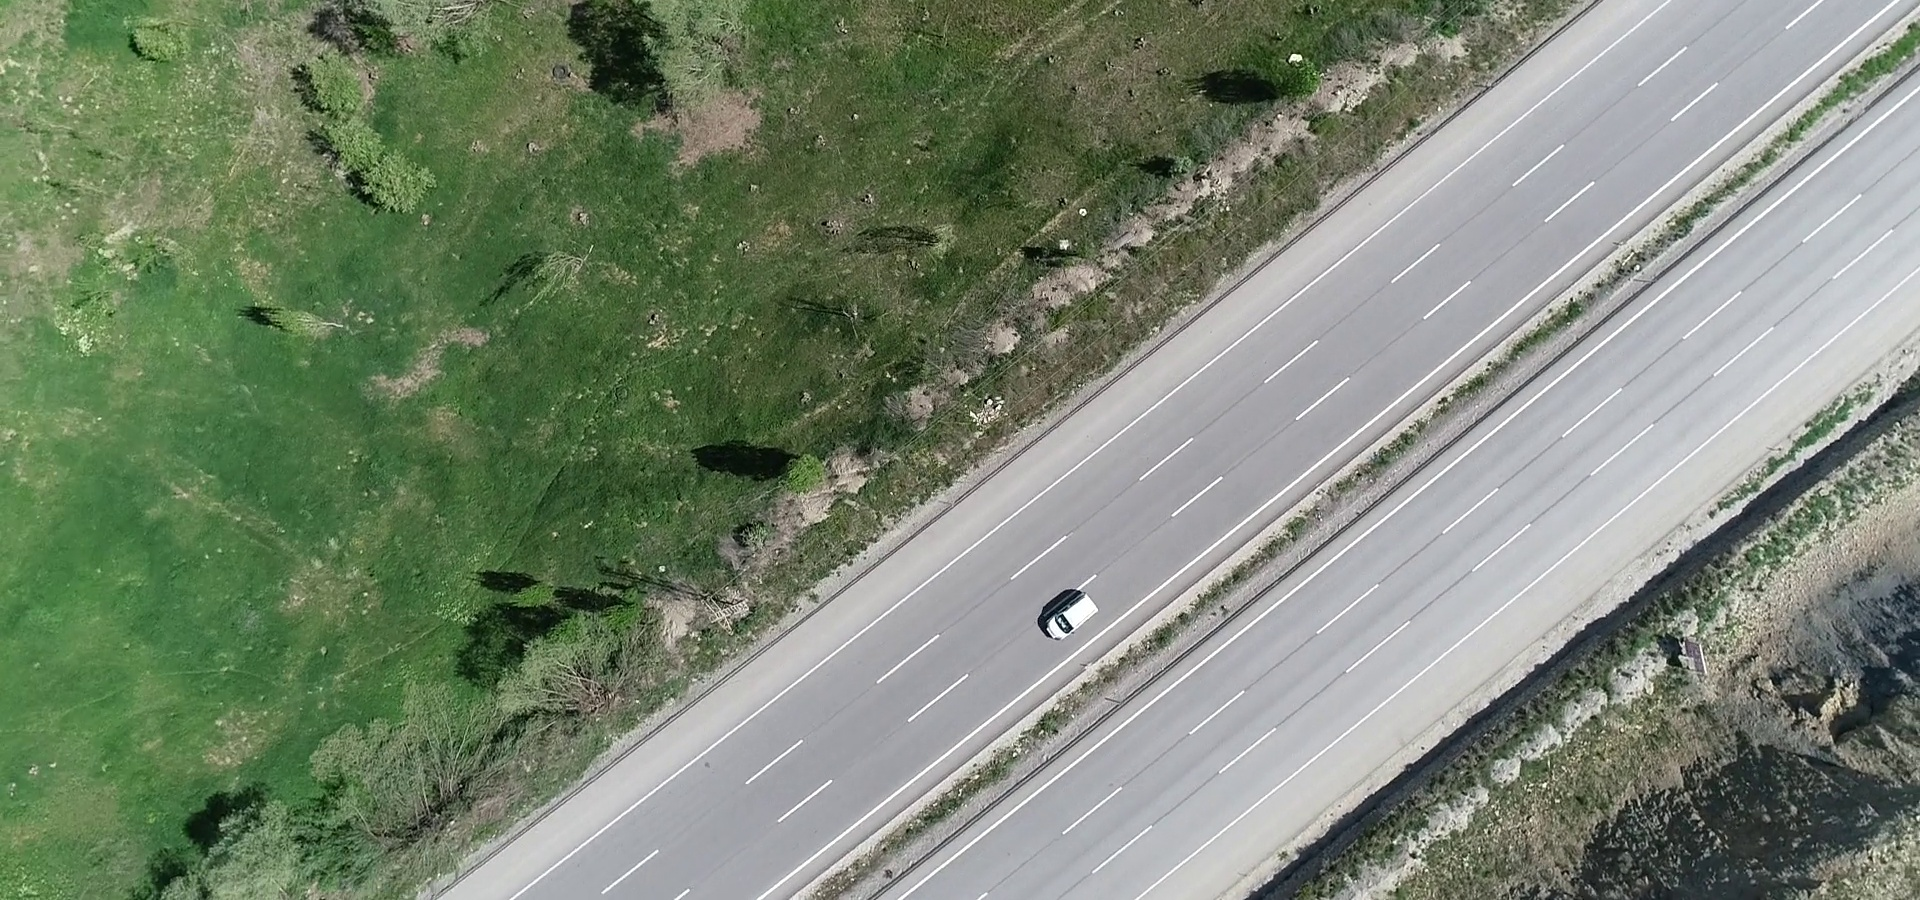arac: (1037, 583, 1107, 645)
